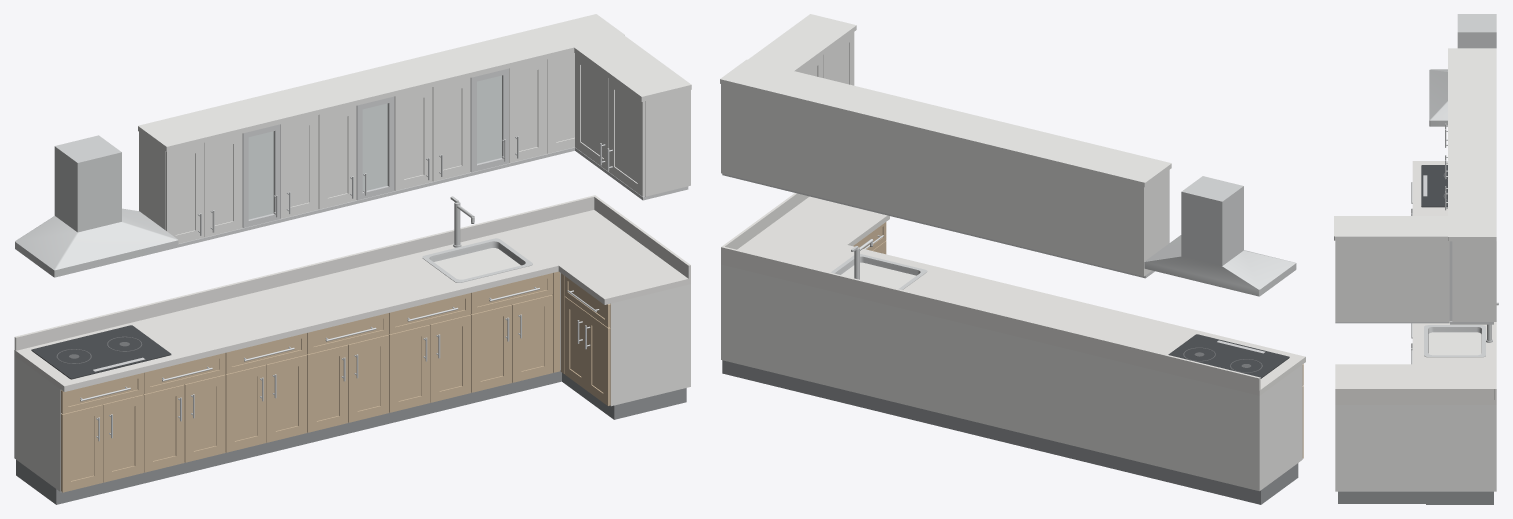
3 renders of one model, left to right at view 1: azimuth 30°, elevation 25°; view 2: azimuth 150°, elevation 25°; view 3: azimuth 270°, elevation 25°, orthographic. The views are drawn at different scales.
Visible parts, largest first — view 1: Tủ bếp chữ L Dài cạnh chính=4200; Dài cạnh phụ=1200; Sâu tủ ; view 2: Tủ bếp chữ L Dài cạnh chính=4200; Dài cạnh phụ=1200; Sâu tủ ; view 3: Tủ bếp chữ L Dài cạnh chính=4200; Dài cạnh phụ=1200; Sâu tủ .
Part boxes in pixels (bbox=[...]): Tủ bếp chữ L Dài cạnh chính=4200; Dài cạnh phụ=1200; Sâu tủ : bbox=[14, 14, 691, 504]; Tủ bếp chữ L Dài cạnh chính=4200; Dài cạnh phụ=1200; Sâu tủ : bbox=[720, 14, 1305, 504]; Tủ bếp chữ L Dài cạnh chính=4200; Dài cạnh phụ=1200; Sâu tủ : bbox=[1334, 14, 1498, 504].
Size of the model in its own units: 4.21 by 2.2 by 1.22.
